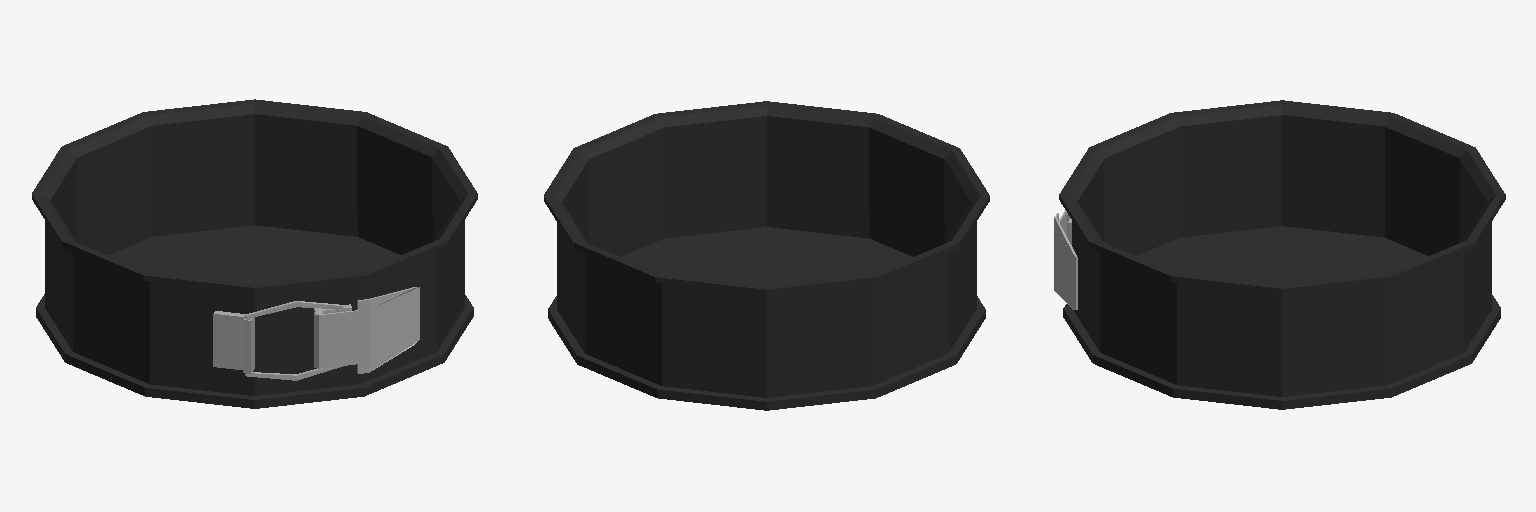
Rendered from cakeTin.obj.
3 views of the same model, side by side, from view 1: azimuth 30°, elevation 25°; view 2: azimuth 150°, elevation 25°; view 3: azimuth 270°, elevation 25° (orthographic).
Size of the model in its own units: 2.13 by 0.6454 by 2.15.